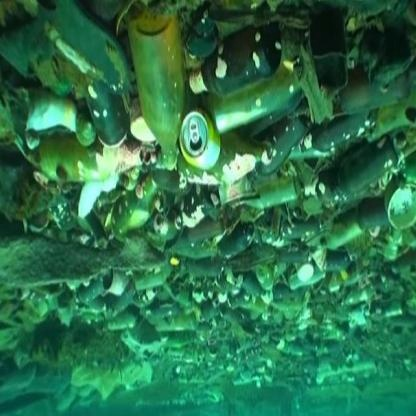can: (183, 119, 227, 182)
gbottle: (124, 10, 190, 176), (51, 14, 147, 102), (34, 134, 146, 190), (209, 46, 309, 108), (112, 166, 171, 261), (213, 80, 314, 133)
